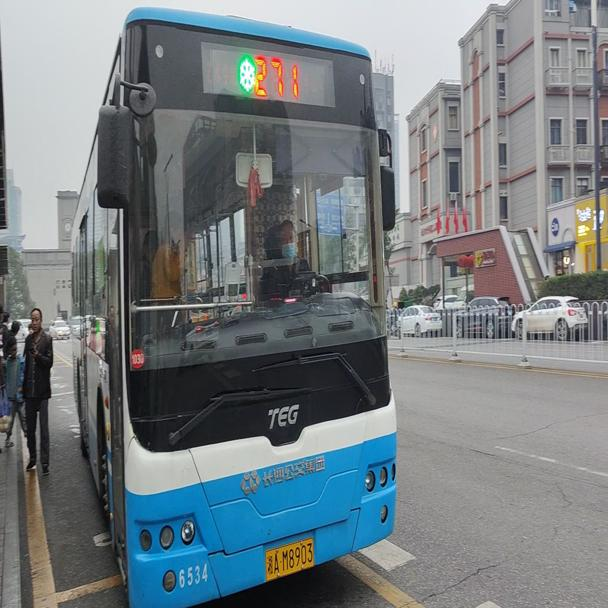bus: (71, 5, 398, 608)
screen: (253, 54, 304, 99)
